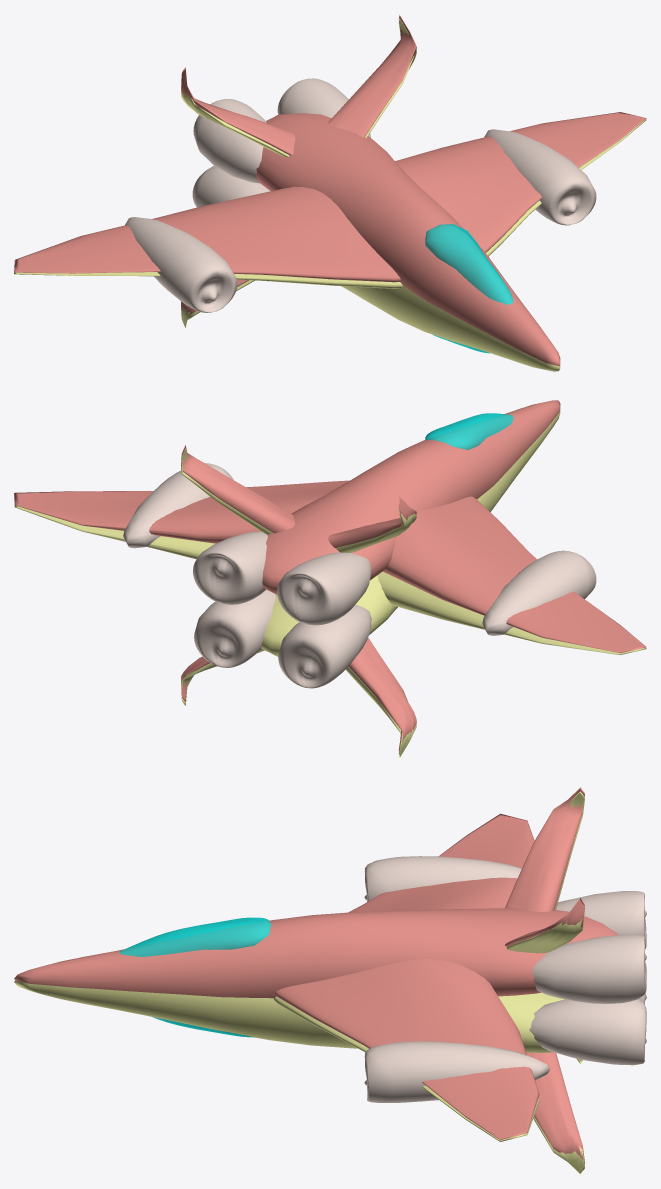
Rendered from enemy01.fbx.
The picture shows the model from 3 angles, top to bottom: view 1: azimuth 30°, elevation 25°; view 2: azimuth 150°, elevation 25°; view 3: azimuth 270°, elevation 25°; orthographic projection. The views are drawn at different scales.
Parts seen in each view (by area): view 1: pSphere4, pSphere1, pSphere3, pSphere7, pSphere2, pSphere13, pSphere6, pSphere8, pSphere16, pSphere5, pSphere11, pSphere10; view 2: pSphere4, pSphere1, pSphere6, pSphere11, pSphere16, pSphere3, pSphere12, pSphere5, pSphere7, pSphere13, pSphere17, pSphere2 (+3 smaller); view 3: pSphere1, pSphere4, pSphere13, pSphere2, pSphere5, pSphere12, pSphere7, pSphere3, pSphere8, pSphere17, pSphere6, pSphere10 (+1 smaller).
Part boxes in pixels (<box>): pSphere4: <box>14,112,646,282</box>; pSphere1: <box>255,113,560,366</box>; pSphere3: <box>125,217,237,312</box>; pSphere7: <box>181,14,416,155</box>; pSphere2: <box>484,129,596,225</box>; pSphere13: <box>342,285,560,371</box>; pSphere6: <box>193,99,266,183</box>; pSphere8: <box>425,224,513,304</box>; pSphere16: <box>14,119,646,288</box>; pSphere5: <box>277,78,370,137</box>; pSphere11: <box>192,166,270,207</box>; pSphere10: <box>181,18,416,157</box>; pSphere4: <box>14,480,646,652</box>; pSphere1: <box>262,400,560,594</box>; pSphere6: <box>277,552,371,625</box>; pSphere11: <box>278,604,371,688</box>; pSphere16: <box>14,495,646,654</box>; pSphere3: <box>482,550,596,635</box>; pSphere12: <box>194,589,275,667</box>; pSphere5: <box>193,531,267,604</box>; pSphere7: <box>181,445,416,547</box>; pSphere13: <box>261,411,560,656</box>; pSphere17: <box>181,637,416,750</box>; pSphere2: <box>123,463,233,548</box>; pSphere1: <box>14,908,618,998</box>; pSphere4: <box>274,813,539,1140</box>; pSphere13: <box>14,980,564,1052</box>; pSphere2: <box>364,1041,550,1102</box>; pSphere5: <box>532,934,646,1003</box>; pSphere12: <box>529,999,646,1065</box>; pSphere7: <box>505,787,584,946</box>; pSphere3: <box>364,856,521,901</box>; pSphere8: <box>119,917,271,956</box>; pSphere17: <box>526,1052,584,1164</box>; pSphere6: <box>556,891,646,949</box>; pSphere10: <box>506,791,584,953</box>.
Bounding box in the file's own units: 253 × 99.99 × 207.
